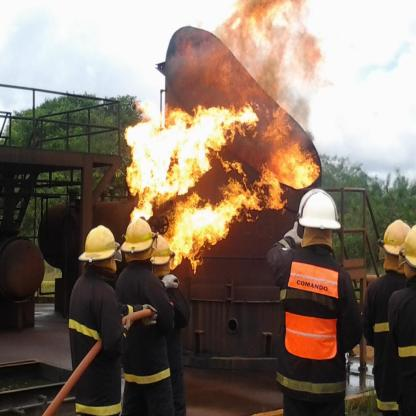fire: (123, 5, 314, 274)
other: (119, 215, 171, 270), (284, 310, 338, 360), (285, 256, 339, 300), (296, 183, 342, 232), (77, 218, 117, 268), (379, 210, 415, 264), (67, 314, 102, 344), (73, 396, 127, 412), (127, 370, 172, 383), (377, 394, 397, 410), (374, 323, 392, 334), (398, 344, 414, 355)
